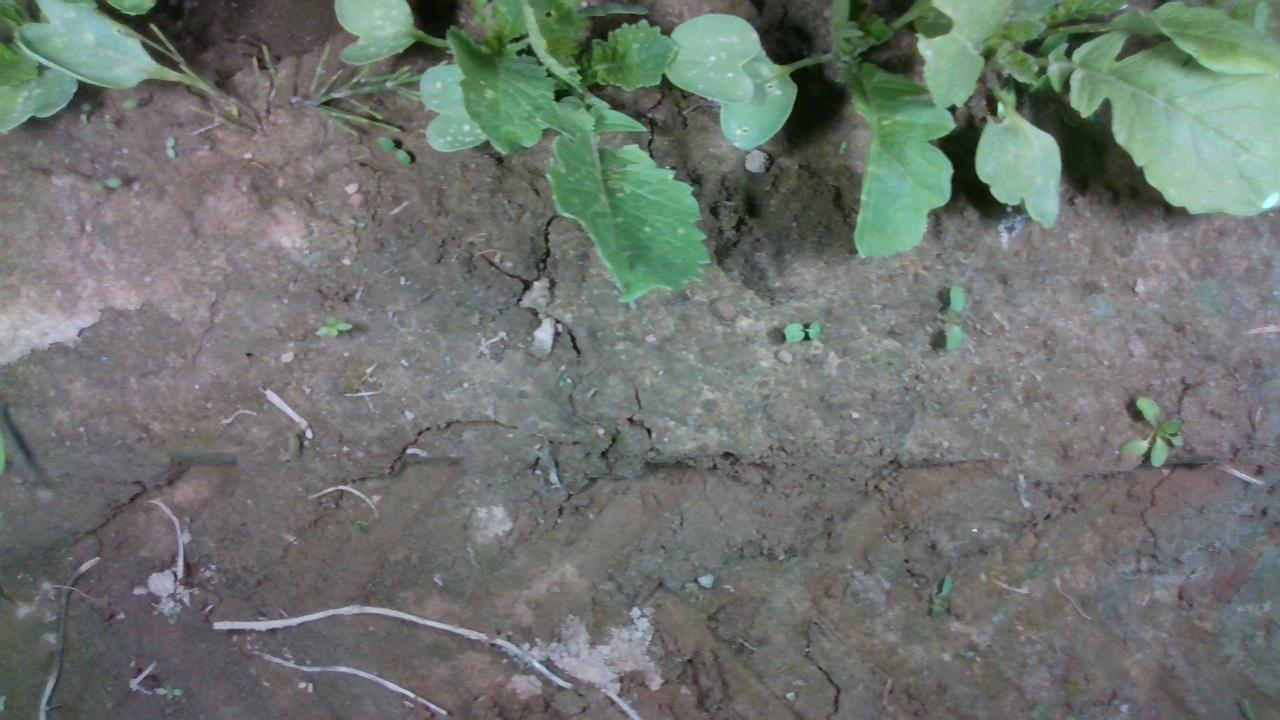weed: (941, 282, 968, 351), (312, 308, 353, 340), (777, 317, 823, 343), (375, 134, 411, 167), (161, 133, 176, 160)
